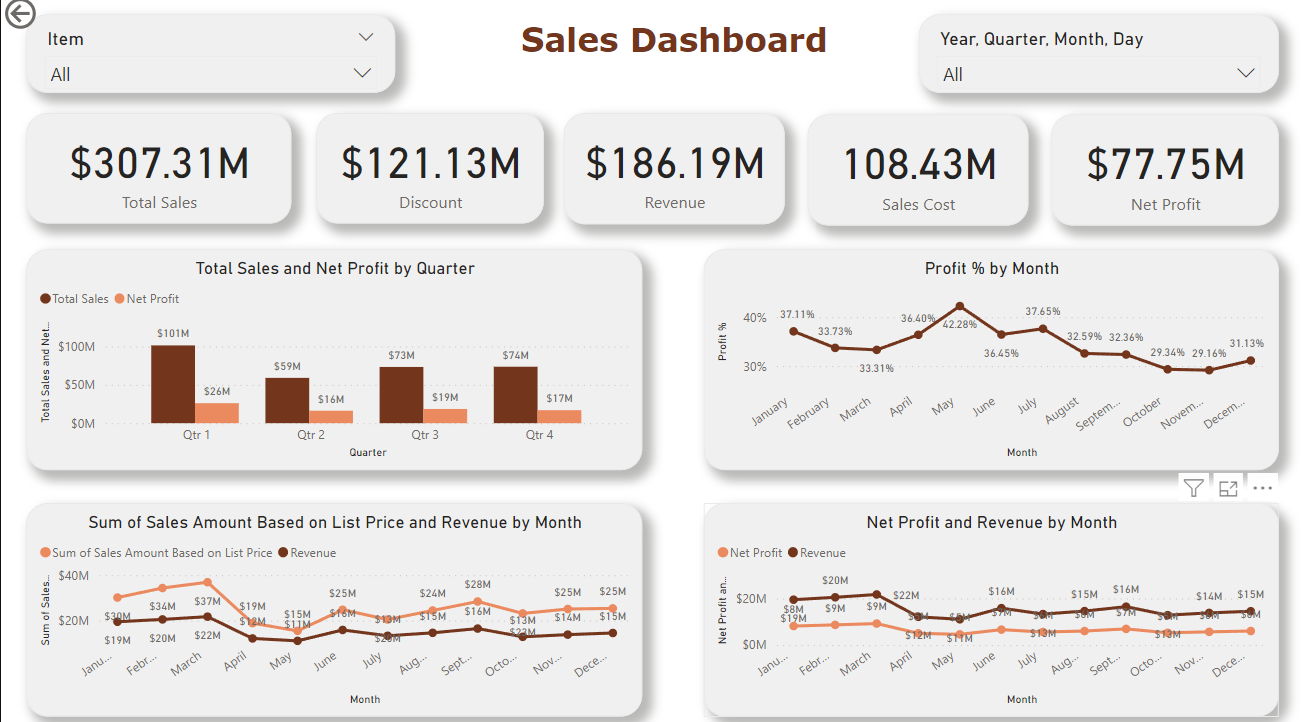

Layout of this report page (visuals, bound fields, positions):
{"tool":"powerbi","page":{"name":"Sales Dashboard","canvas":[1280,720],"ordinal":0},"visuals":[{"type":"slicer","fields":{"Values":["cleandata.Item"]},"box":[25.7,20.8,360.6,77],"z":0},{"type":"slicer","fields":{"Values":["DateDia.Date.Variation.Date Hierarchy.Year","DateDia.Date.Variation.Date Hierarchy.Quarter","DateDia.Date.Variation.Date Hierarchy.Month","DateDia.Date.Variation.Date Hierarchy.Day"]},"box":[898.5,20.8,352.1,77],"z":1000},{"type":"actionButton","box":[0,0,100,40],"z":2000},{"type":"card","fields":{"Values":["cleandata.Total Sales"]},"box":[26,117.9,259.1,108.3],"z":3000},{"type":"card","fields":{"Values":["cleandata.Discount"]},"box":[309.9,117.9,222.1,108.3],"z":4000},{"type":"card","fields":{"Values":["cleandata.Revenue"]},"box":[551.3,117.4,216.4,108.8],"z":5000},{"type":"card","fields":{"Values":["cleandata.Net Profit"]},"box":[1028,118.6,222.5,108.8],"z":6000},{"type":"clusteredColumnChart","fields":{"Category":["DateDia.Date.Variation.Date Hierarchy.Quarter","DateDia.Date.Variation.Date Hierarchy.Month"],"Y":["cleandata.Total Sales","cleandata.Net Profit"]},"box":[25.7,250.6,602.6,216.4],"z":7000},{"type":"lineChart","fields":{"Category":["DateDia.Date.Variation.Date Hierarchy.Month"],"Y":["cleandata.Profit %"]},"box":[688.2,250.6,562.3,216.4],"z":8000},{"type":"lineChart","fields":{"Category":["DateDia.Date.Variation.Date Hierarchy.Month"],"Y":["Sum(cleandata.Sales Amount Based on List Price)","cleandata.Revenue"]},"box":[25.7,498.7,602.6,209],"z":9000},{"type":"lineChart","fields":{"Category":["DateDia.Date.Variation.Date Hierarchy.Month"],"Y":["cleandata.Net Profit","cleandata.Revenue"]},"box":[688.2,498.7,562.3,209],"z":10000},{"type":"textbox","box":[449.8,20.8,419.3,77],"z":11000},{"type":"card","fields":{"Values":["cleandata.Sales Cost"]},"box":[789.7,118.6,216.4,108.8],"z":12000}]}

Visuals, with their boxes in screenshot pixels (x1, y1, x2, y2), scaled from the page's 1280x720 canvas onto the 1304x722 screenshot:
slicer - cleandata.Item: (26,21,394,98)
slicer - DateDia.Date.Variation.Date Hierarchy.Year x DateDia.Date.Variation.Date Hierarchy.Quarter: (915,21,1274,98)
actionButton: (0,0,102,40)
card - cleandata.Total Sales: (26,118,290,227)
card - cleandata.Discount: (316,118,542,227)
card - cleandata.Revenue: (562,118,782,227)
card - cleandata.Net Profit: (1047,119,1274,228)
clusteredColumnChart - DateDia.Date.Variation.Date Hierarchy.Quarter x DateDia.Date.Variation.Date Hierarchy.Month: (26,251,640,468)
lineChart - DateDia.Date.Variation.Date Hierarchy.Month x cleandata.Profit %: (701,251,1274,468)
lineChart - DateDia.Date.Variation.Date Hierarchy.Month x Sum(cleandata.Sales Amount Based on List Price): (26,500,640,710)
lineChart - DateDia.Date.Variation.Date Hierarchy.Month x cleandata.Net Profit: (701,500,1274,710)
textbox: (458,21,885,98)
card - cleandata.Sales Cost: (805,119,1025,228)
